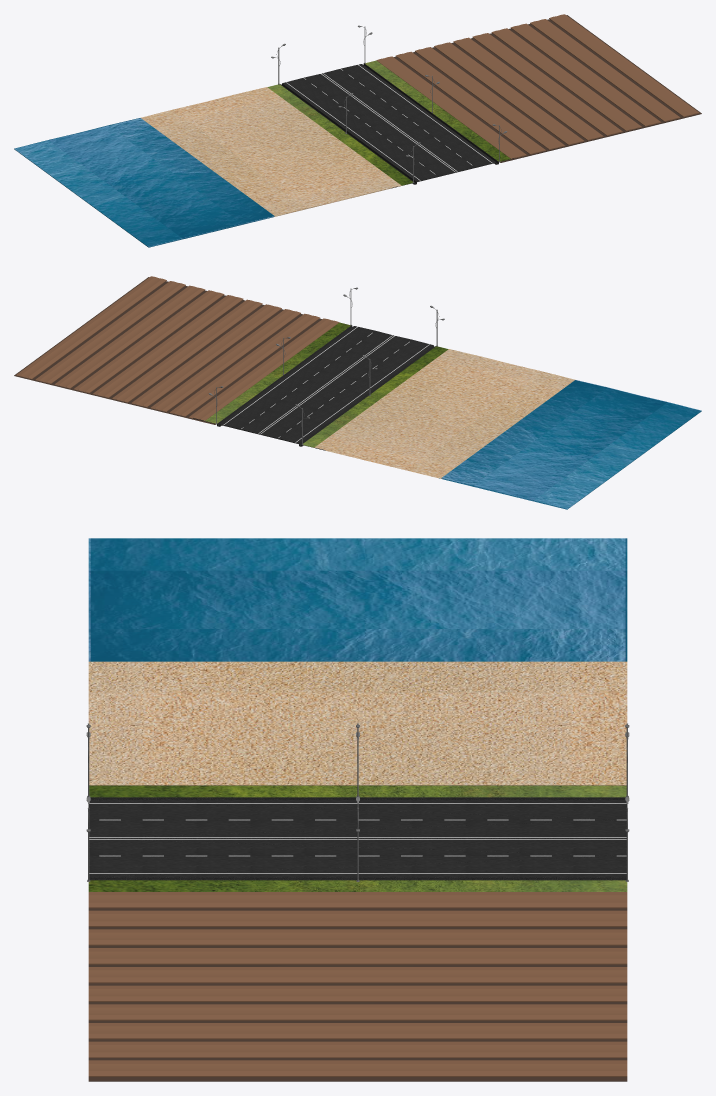
Rendered from level.fbx.
3 views of the same model, one above another, from view 1: azimuth 30°, elevation 25°; view 2: azimuth 150°, elevation 25°; view 3: azimuth 270°, elevation 25° (orthographic). The views are drawn at different scales.
Parts seen in each view (by area): view 1: Shape009_011.004, Shape009_011.003, Shape009_011.002, RailClone010_002, Shape009_009, RailClone016; view 2: Shape009_011.004, Shape009_011.003, Shape009_011.002, RailClone010_002, Shape009_009, RailClone016; view 3: Shape009_011.004, Shape009_011.002, Shape009_011.003, RailClone010_002, Shape009_009, RailClone016.
Part boxes in pixels (box(x1,y1,x2,y2)): Shape009_011.004: box(376, 14, 701, 162); Shape009_011.003: box(14, 118, 274, 247); Shape009_011.002: box(140, 87, 401, 216); RailClone010_002: box(280, 63, 513, 188); Shape009_009: box(267, 60, 510, 185); RailClone016: box(271, 25, 507, 183); Shape009_011.004: box(14, 276, 339, 424); Shape009_011.003: box(439, 380, 701, 509); Shape009_011.002: box(314, 349, 575, 478); RailClone010_002: box(193, 325, 435, 450); Shape009_009: box(203, 322, 448, 447); RailClone016: box(208, 287, 444, 445); Shape009_011.004: box(88, 892, 627, 1081); Shape009_011.002: box(88, 661, 627, 785); Shape009_011.003: box(88, 538, 627, 661); RailClone010_002: box(89, 797, 626, 880); Shape009_009: box(88, 785, 627, 891); RailClone016: box(86, 723, 629, 881).
Size of the model in its own units: 11862 by 838 by 5040.
9 materials, 4 textured.
